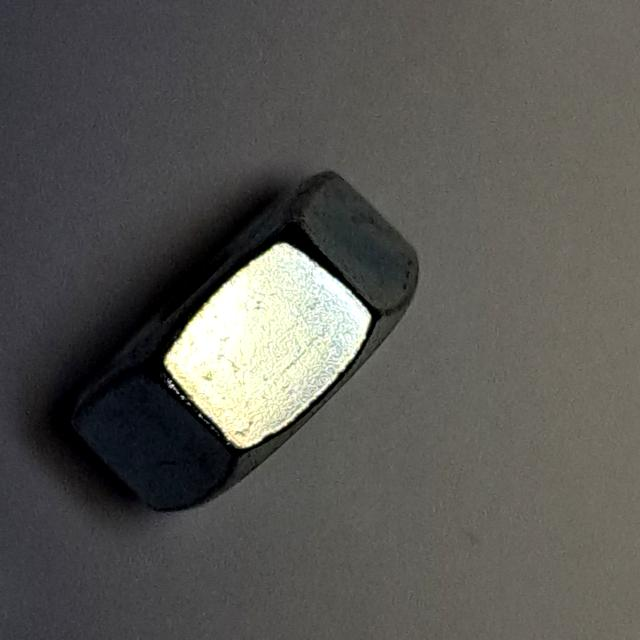Side_Excellent: (42, 153, 440, 539)
